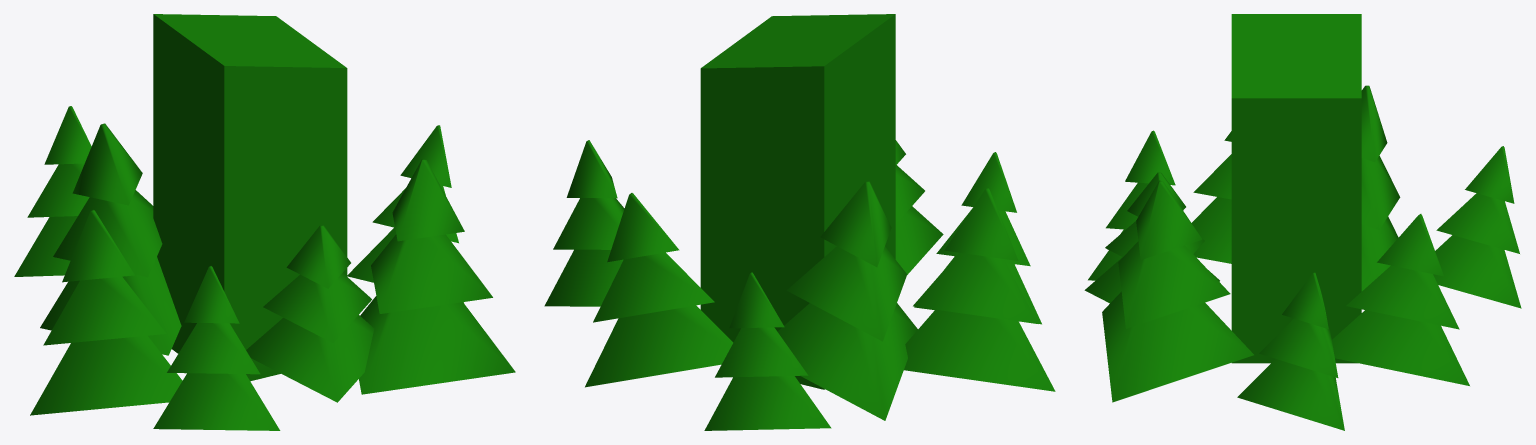
The model's file is ArrowTowerTile.fbx.
The picture shows the model from 3 angles, left to right: view 1: azimuth 30°, elevation 25°; view 2: azimuth 150°, elevation 25°; view 3: azimuth 270°, elevation 25°; orthographic projection. The views are drawn at different scales.
Parts seen in each view (by area): view 1: Cylinder.001; view 2: Cylinder.001; view 3: Cylinder.001.
Boxes of the visible parts, x1,y1,x2,y2 form: Cylinder.001: (14,14,515,430); Cylinder.001: (544,14,1055,430); Cylinder.001: (1084,14,1521,430).
Bounding box in the file's own units: 151 × 100 × 135.
